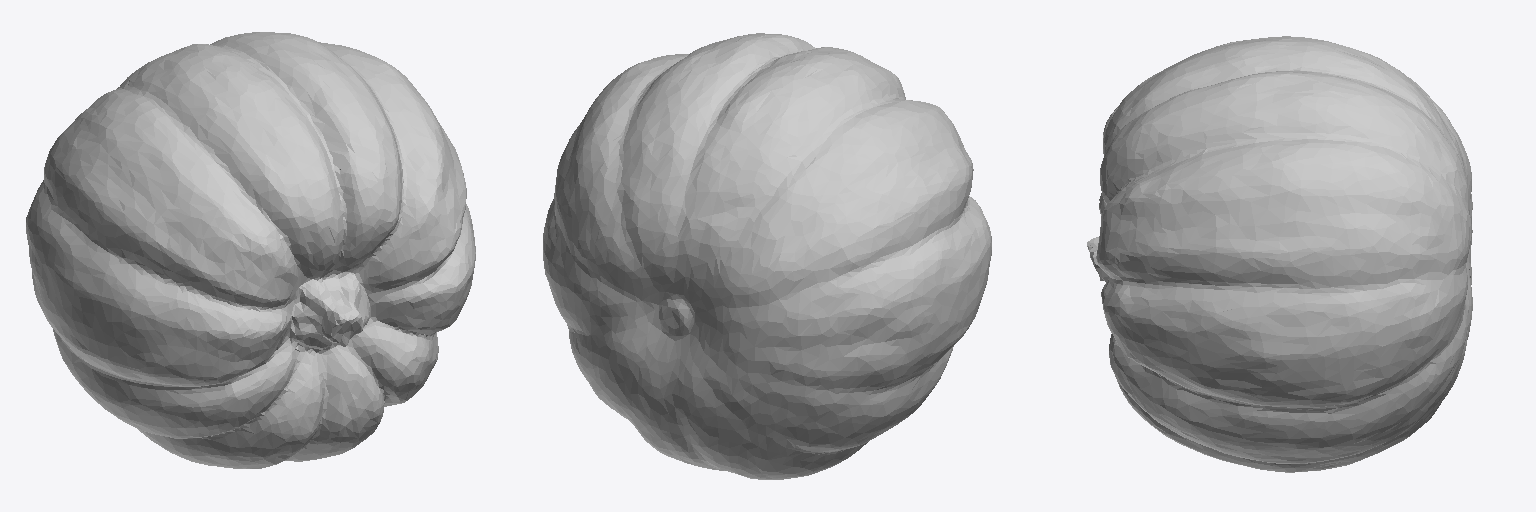
Rendered from pumpkin.obj.
3 renders of one model, left to right at view 1: azimuth 30°, elevation 25°; view 2: azimuth 150°, elevation 25°; view 3: azimuth 270°, elevation 25°, orthographic.
Visible parts, largest first — view 1: pumpkin; view 2: pumpkin; view 3: pumpkin.
Part boxes in pixels (left/top/right/bottom): pumpkin: left=26, top=32, right=475, bottom=468; pumpkin: left=543, top=33, right=991, bottom=479; pumpkin: left=1087, top=36, right=1472, bottom=472.
Bounding box in the file's own units: 79.14 × 76.94 × 68.39.